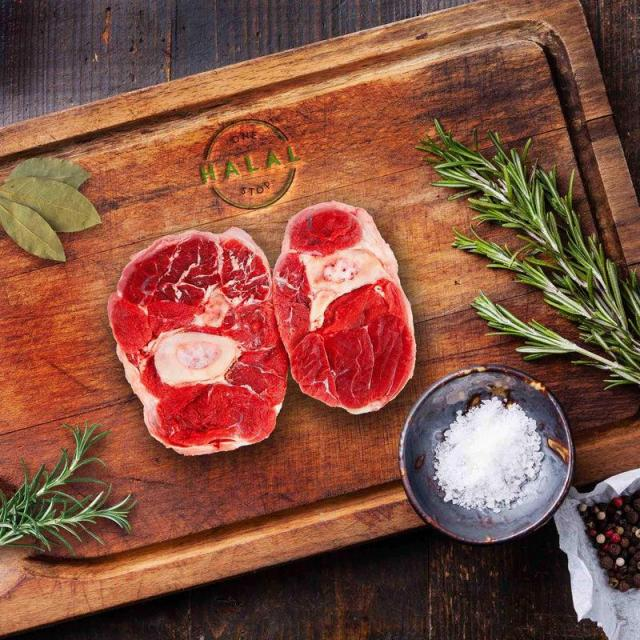beef: (98, 251, 295, 451)
